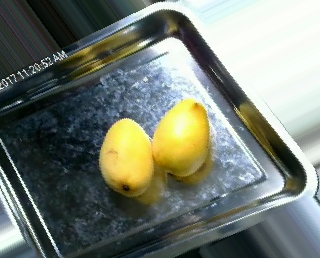Mango: (150, 98, 215, 178), (93, 119, 151, 196)
